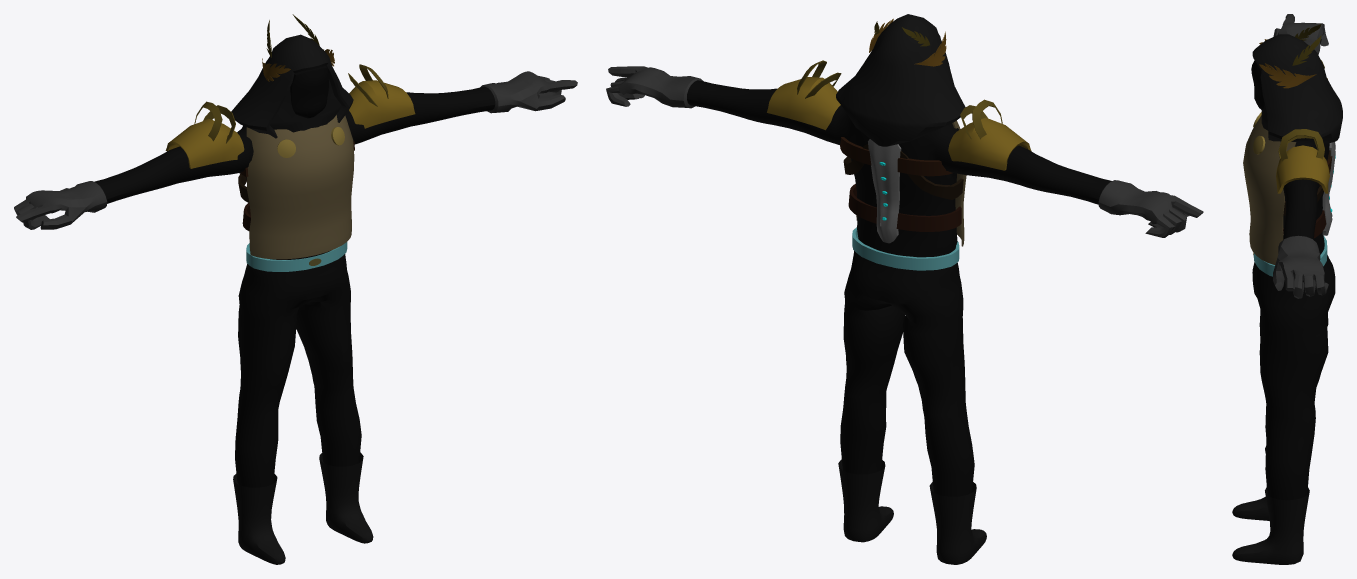
The model's file is orpheus.obj.
3 renders of one model, left to right at view 1: azimuth 30°, elevation 25°; view 2: azimuth 150°, elevation 25°; view 3: azimuth 270°, elevation 25°, orthographic. The views are drawn at different scales.
Visible parts, largest first — view 1: Cylinder.014, Cylinder.008, Cube.003, Cylinder.002, Cylinder.004, Cube.001, Cube.002, Plane; view 2: Cylinder.014, Cube.003, Cylinder.002, Cylinder.004, Cylinder.010, Cylinder.003, Cube.002, Cylinder.013, Plane, Cylinder.012; view 3: Cylinder.014, Cube.003, Cylinder.008, Cylinder.002, Cylinder.004, Plane, BézierCurve, Cylinder.010, BézierCurve.001, Cube.001, Cube.002, Cylinder (+1 smaller).
Boxes of the visible parts, box(x1,y1,x2,y2) form: Cylinder.014: box(14, 71, 577, 487); Cylinder.008: box(246, 115, 354, 259); Cube.003: box(231, 34, 353, 138); Cylinder.002: box(233, 452, 373, 564); Cylinder.004: box(165, 80, 415, 168); Cube.001: box(290, 65, 328, 118); Cube.002: box(246, 242, 347, 271); Plane: box(194, 64, 388, 143); Cylinder.014: box(606, 66, 1203, 496); Cube.003: box(836, 14, 965, 146); Cylinder.002: box(838, 459, 986, 564); Cylinder.004: box(767, 77, 1031, 170); Cylinder.010: box(868, 139, 901, 243); Cylinder.003: box(848, 184, 961, 231); Cube.002: box(852, 227, 959, 270); Cylinder.013: box(840, 137, 952, 176); Plane: box(797, 60, 1002, 139); Cylinder.012: box(843, 144, 963, 199); Cylinder.014: box(1252, 14, 1335, 500); Cube.003: box(1252, 34, 1342, 143); Cylinder.008: box(1243, 115, 1296, 264); Cylinder.002: box(1232, 447, 1309, 564); Cylinder.004: box(1276, 78, 1329, 193); Plane: box(1278, 60, 1324, 161); BézierCurve: box(1259, 39, 1316, 88); Cylinder.010: box(1322, 142, 1335, 235); BézierCurve.001: box(1292, 24, 1321, 65); Cube.001: box(1251, 60, 1264, 109); Cube.002: box(1253, 235, 1327, 276); Cylinder: box(1253, 112, 1265, 154).
Size of the model in its own units: 2.08 by 1.81 by 0.3548.
